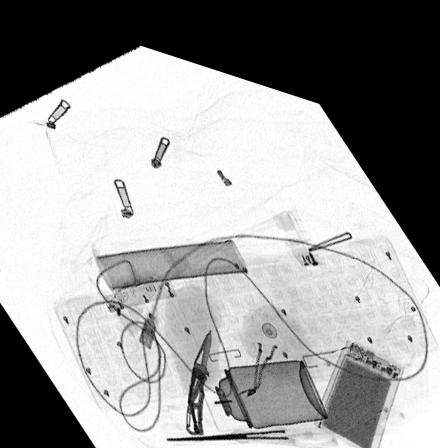Knife: (184, 317, 210, 423)
Powerbank: (311, 312, 403, 438)
Sprayer: (193, 342, 328, 417)
